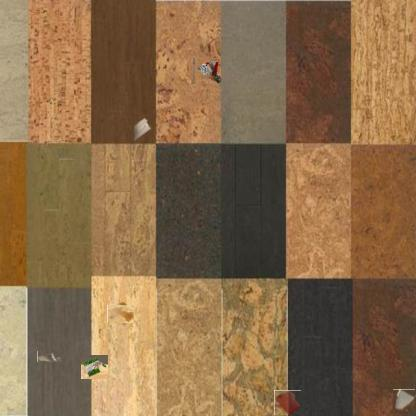dirty: (194, 58, 222, 84), (81, 354, 107, 380), (130, 115, 152, 141), (394, 389, 415, 411), (37, 350, 62, 362)
liquid: (274, 390, 301, 415), (110, 303, 132, 326)
